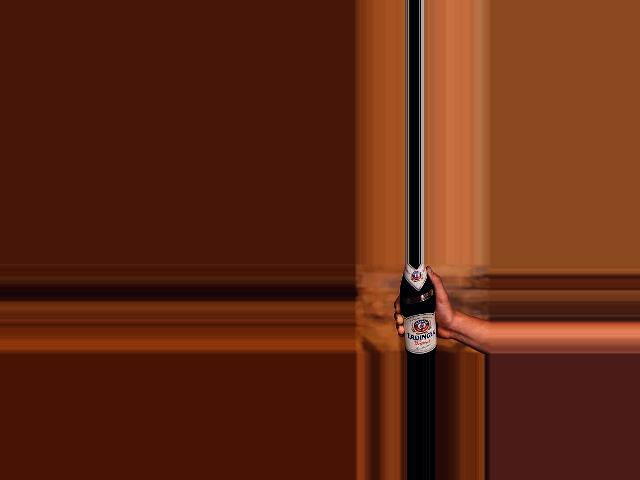beer: (400, 264, 437, 355)
